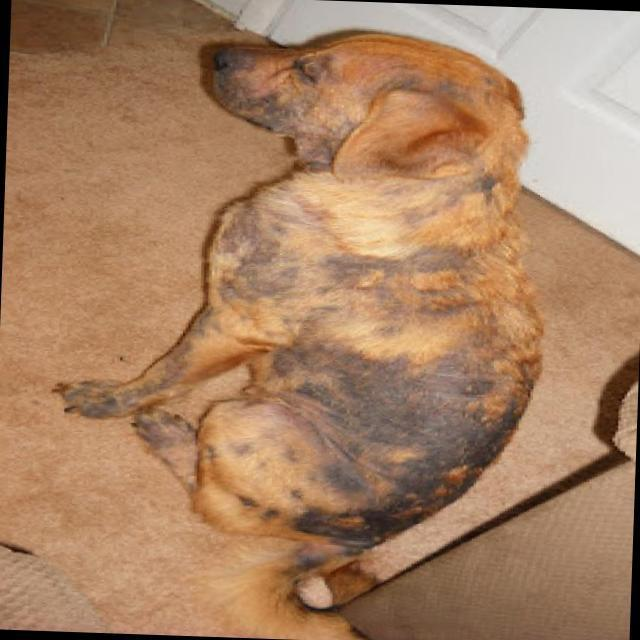mange: (236, 168, 538, 531)
